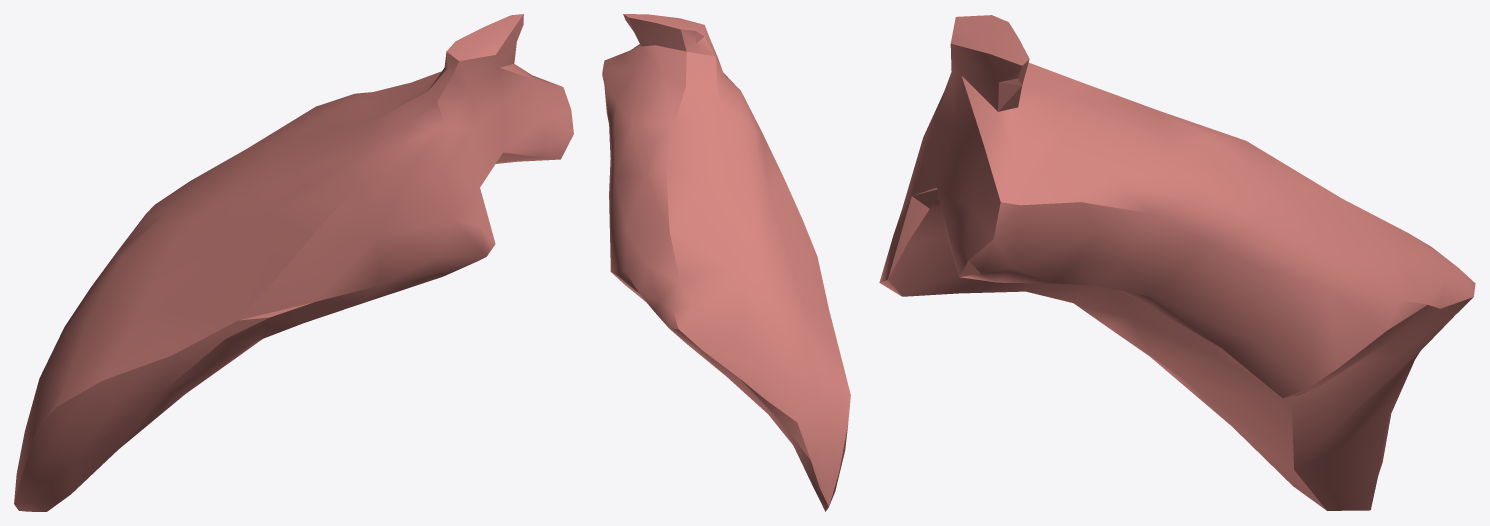
File: fma81561_mm1330m.glb
3 views of the same model, side by side, from view 1: azimuth 30°, elevation 25°; view 2: azimuth 150°, elevation 25°; view 3: azimuth 270°, elevation 25° (orthographic). The views are drawn at different scales.
Parts seen in each view (by area): view 1: FMA81561_MM1330M; view 2: FMA81561_MM1330M; view 3: FMA81561_MM1330M.
Boxes of the visible parts, box(x1,y1,x2,y2) form: FMA81561_MM1330M: box(14, 14, 573, 511); FMA81561_MM1330M: box(602, 14, 850, 511); FMA81561_MM1330M: box(879, 15, 1475, 510).
Bounding box in the file's own units: 0.00941 × 0.0101 × 0.00752.
